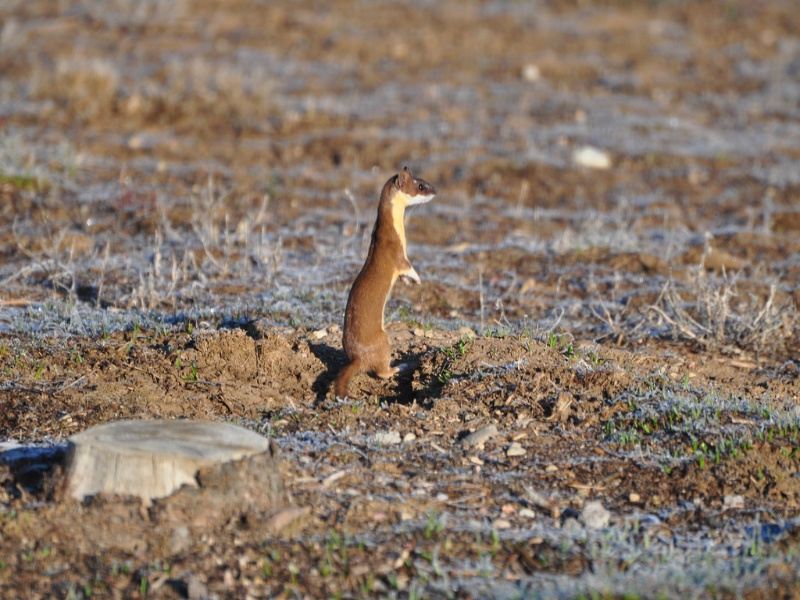minkish: (325, 166, 439, 400)
